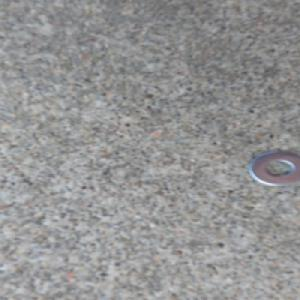Washer: (242, 149, 300, 188)
